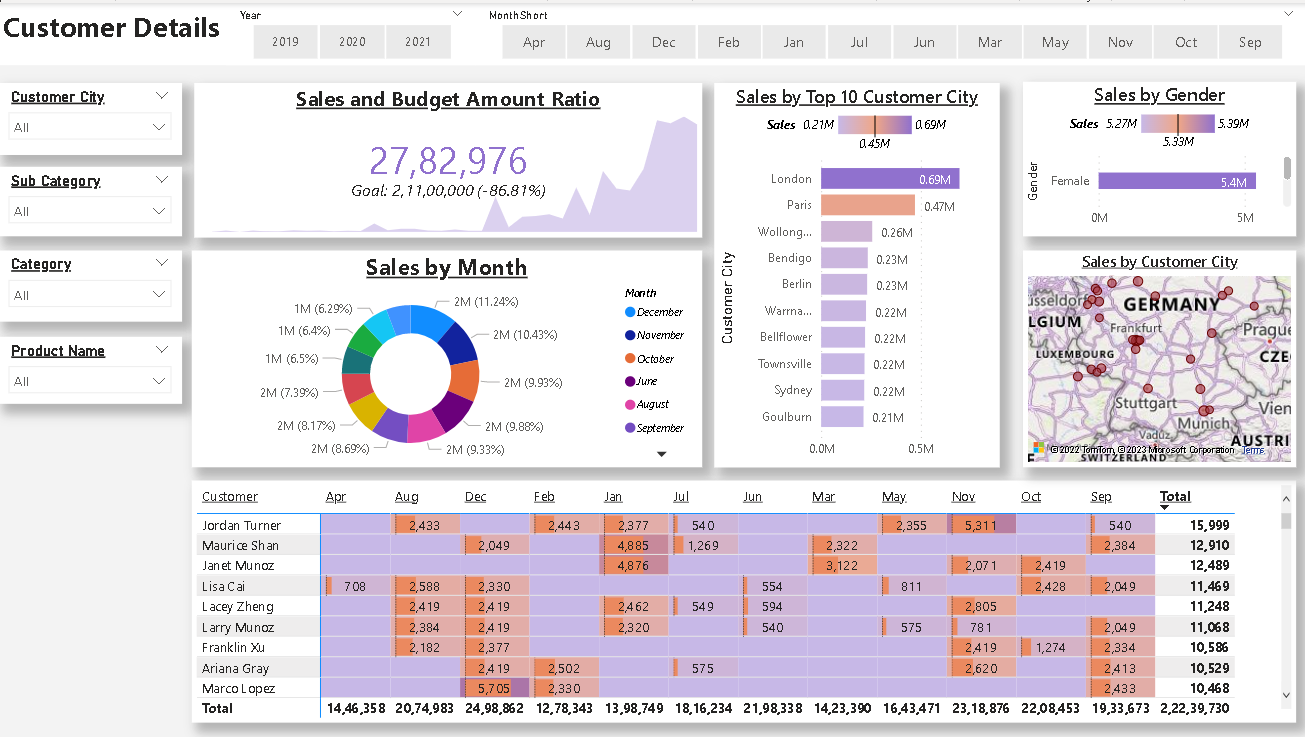

This screenshot's page, from the dashboard's own definition file:
{"tool":"powerbi","page":{"name":"Customer Details","canvas":[1280,720],"ordinal":1},"visuals":[{"type":"textbox","box":[0,0,1280,61.1],"z":0},{"type":"slicer","fields":{"Values":["DIM_Customer.Customer City"]},"box":[0,77.8,179.6,70.6],"z":1000},{"type":"slicer","fields":{"Values":["DIM_Products.Sub Category"]},"box":[0,160.4,179.6,68.3],"z":2000},{"type":"slicer","fields":{"Values":["DIM_Products.Product Category"]},"box":[0,241.9,179.6,69.4],"z":3000},{"type":"slicer","fields":{"Values":["DIM_Products.Product Name"]},"box":[0,326.9,179.6,65.9],"z":4000},{"type":"slicer","fields":{"Values":["Dim_Date_Excel.Year"]},"box":[223.9,0,243.1,61.1],"z":5000},{"type":"slicer","fields":{"Values":["Dim_Date_Excel.MonthShort"]},"box":[467,0,813,61.1],"z":6000},{"type":"kpi","title":"Sales and Budget Amount Ratio","fields":{"Indicator":["Key Measures.Sales"],"Goal":["Key Measures.Budget_Amount"],"TrendLine":["FactInternetSale.SalesAmount"]},"box":[191.6,77.8,496.9,150.9],"z":7000},{"type":"donutChart","fields":{"Y":["Key Measures.Sales"],"Category":["Dim_Date_Excel.Month"]},"box":[189.2,241.9,499.3,211.9],"z":8000},{"type":"barChart","title":"Sales by Top 10 Customer City","fields":{"Y":["Key Measures.Sales"],"Category":["DIM_Customer.Customer City"]},"box":[700.5,77.8,279,376],"z":9000},{"type":"barChart","title":"Sales by Gender","fields":{"Y":["Key Measures.Sales"],"Category":["DIM_Customer.Gender"]},"box":[1002.5,77.3,267,151.1],"z":10000},{"type":"pivotTable","fields":{"Rows":["DIM_Customer.Full Name"],"Values":["Key Measures.Sales"],"Columns":["Dim_Date_Excel.MonthShort"]},"box":[189.5,466.5,1079.9,236.8],"z":11000},{"type":"map","fields":{"Category":["DIM_Customer.Customer City"],"Size":["Key Measures.Sales"]},"box":[1002.5,242.4,267,212],"z":12000}]}

Visuals, with their boxes in screenshot pixels (x1, y1, x2, y2), scaled from the page's 1280x720 canvas onto the 1305x737 screenshot:
textbox: <region>0, 0, 1304, 63</region>
slicer - DIM_Customer.Customer City: <region>0, 80, 183, 152</region>
slicer - DIM_Products.Sub Category: <region>0, 164, 183, 234</region>
slicer - DIM_Products.Product Category: <region>0, 248, 183, 319</region>
slicer - DIM_Products.Product Name: <region>0, 335, 183, 402</region>
slicer - Dim_Date_Excel.Year: <region>228, 0, 476, 63</region>
slicer - Dim_Date_Excel.MonthShort: <region>476, 0, 1304, 63</region>
"Sales and Budget Amount Ratio" kpi: <region>195, 80, 702, 234</region>
donutChart - Key Measures.Sales x Dim_Date_Excel.Month: <region>193, 248, 702, 465</region>
"Sales by Top 10 Customer City" barChart: <region>714, 80, 999, 465</region>
"Sales by Gender" barChart: <region>1022, 79, 1294, 234</region>
pivotTable - DIM_Customer.Full Name x Key Measures.Sales: <region>193, 478, 1294, 720</region>
map - DIM_Customer.Customer City x Key Measures.Sales: <region>1022, 248, 1294, 465</region>
